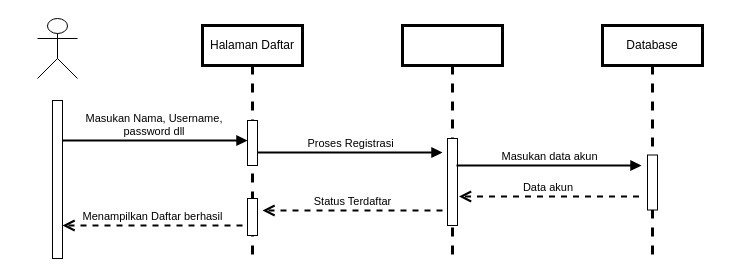
Image size: 734x278. Some labels were removed from this diagram. The box of each missing label's shape, as (x1, y1, x2, y2) in pixels:
Sistem pengaduan: (400, 24, 504, 260)
User: (36, 18, 78, 78)
